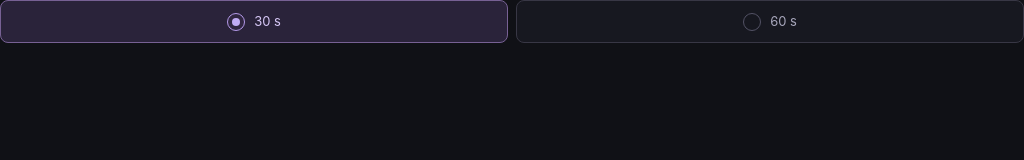
Test: custom radio choices retain native checked semantics
Click the radio button labelled "60 s" at (752, 22), box x1=743 y1=12 x2=761 y2=30
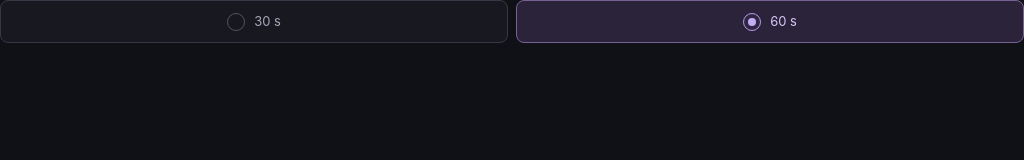
Expected: the radio button labelled "60 s" is checked, x1=743 y1=12 x2=761 y2=30
Expected: the radio button labelled "30 s" is not checked, x1=227 y1=12 x2=245 y2=30
